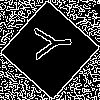Y: (25, 25, 72, 61)
